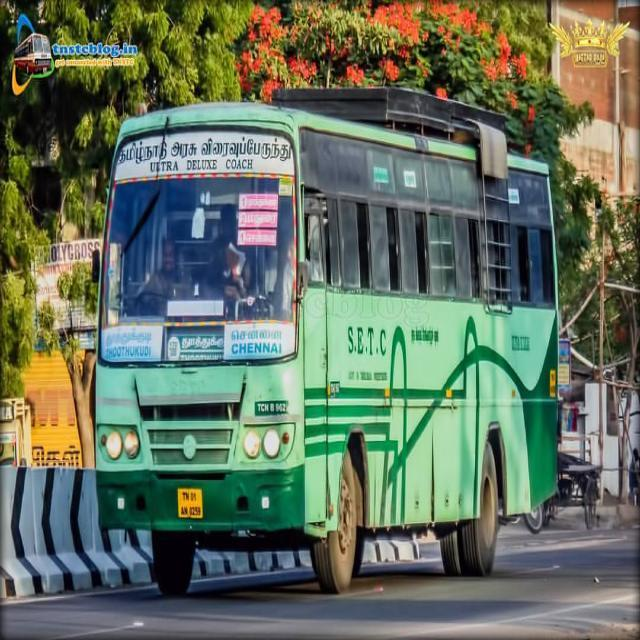Bus: (92, 85, 559, 599)
